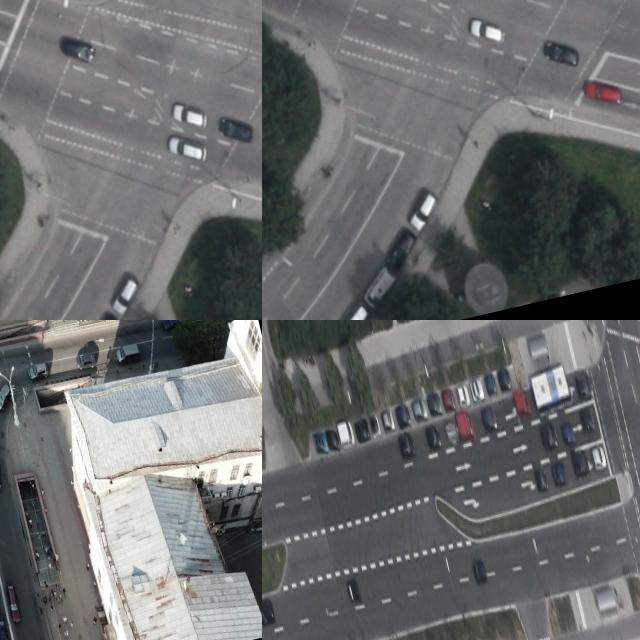UAI: (379, 223, 426, 275), (357, 264, 402, 312), (164, 125, 211, 170), (581, 72, 627, 113), (404, 189, 444, 234), (467, 10, 509, 51), (170, 95, 212, 135), (541, 33, 583, 73), (216, 109, 257, 149), (59, 30, 99, 70), (108, 275, 144, 317), (333, 300, 375, 320), (455, 409, 477, 443), (4, 583, 22, 623), (570, 448, 591, 479), (575, 369, 595, 401), (539, 422, 560, 452), (73, 349, 99, 373), (512, 387, 532, 418), (480, 405, 499, 433), (397, 430, 416, 458), (337, 419, 356, 447), (579, 406, 597, 435), (82, 308, 125, 320), (26, 360, 50, 381), (424, 423, 442, 451), (0, 381, 15, 413), (590, 444, 608, 470), (550, 460, 568, 486), (394, 403, 412, 428), (471, 558, 488, 584), (426, 390, 443, 416), (346, 577, 362, 604), (354, 417, 371, 442), (412, 396, 429, 421), (469, 378, 486, 403), (444, 419, 459, 446), (497, 367, 513, 392), (262, 597, 276, 625), (312, 430, 329, 453), (456, 381, 471, 407), (533, 468, 549, 492), (325, 426, 341, 450), (441, 387, 457, 411), (561, 422, 576, 446), (483, 371, 498, 395), (380, 407, 395, 430), (160, 320, 187, 332), (0, 612, 11, 640), (369, 412, 381, 436), (0, 453, 4, 491)
car: (529, 363, 575, 417)
harvester: (114, 341, 141, 365)
